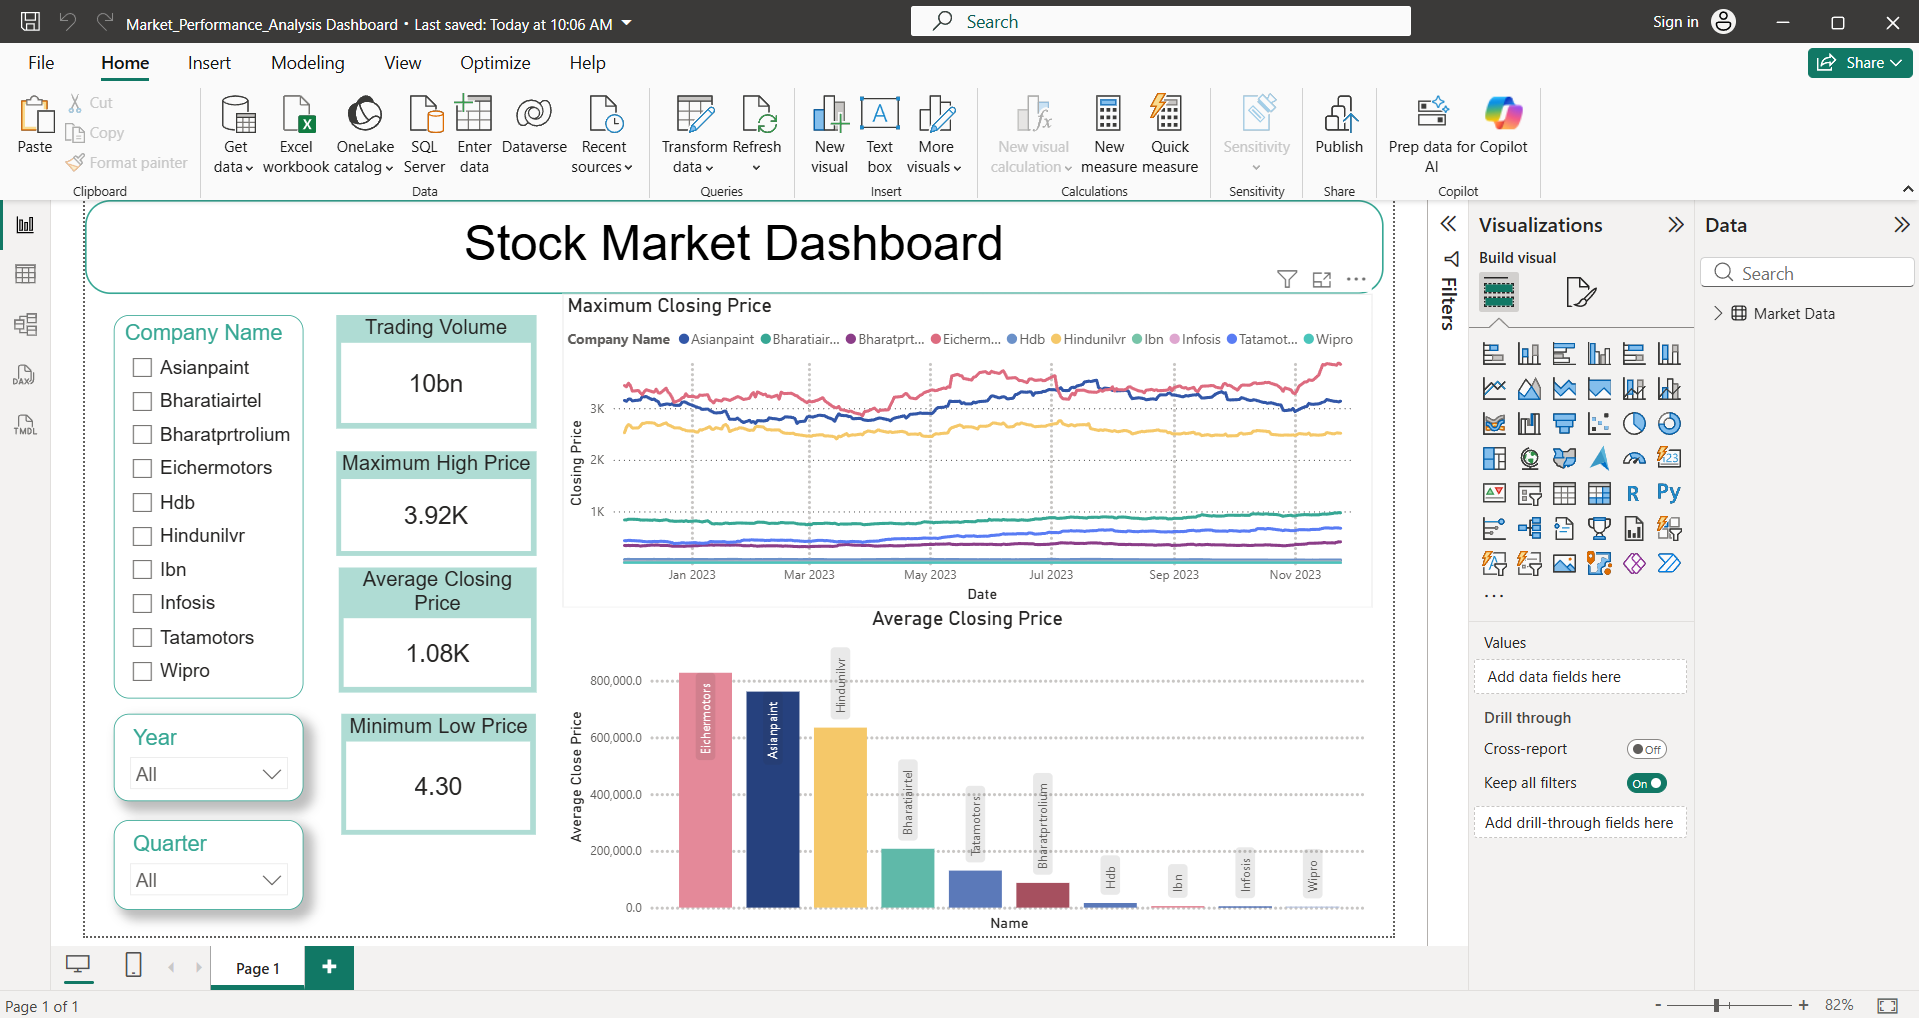

The dashboard page shown, as its layout file describes it:
{"tool":"powerbi","page":{"name":"Page 1","canvas":[1280,720],"ordinal":0},"visuals":[{"type":"textbox","box":[0,0,1270.5,91.7],"z":0},{"type":"cardVisual","title":"Trading Volume","fields":{"Data":["Sum(Market Data.Volume)"]},"box":[245.8,112.5,195.7,111.3],"z":1000},{"type":"cardVisual","title":"Average Closing Price","fields":{"Data":["Market Data.Average Close Price"]},"box":[248.2,359.5,193.2,122.3],"z":2000},{"type":"cardVisual","title":"Maximum High Price","fields":{"Data":["Max(Market Data.High)"]},"box":[245.8,245.8,195.7,102.7],"z":3000},{"type":"lineChart","title":"Maximum Closing Price","fields":{"Category":["Market Data.Date"],"Y":["Max(Market Data.Close)"],"Series":["Market Data.Name"]},"box":[467.1,91.7,792.4,306.9],"z":4000},{"type":"clusteredColumnChart","title":"Average Closing Price","fields":{"Category":["Market Data.Name"],"Y":["Sum(Market Data.Close)"]},"box":[467.1,398.6,792.4,321.6],"z":5000},{"type":"slicer","title":"Company Name","fields":{"Values":["Market Data.Name"]},"box":[28.1,112.5,185.9,375.4],"z":6000},{"type":"cardVisual","title":"Minimum Low Price","fields":{"Data":["Min(Market Data.Low)"]},"box":[250.7,502.6,190.8,118.6],"z":7000},{"type":"slicer","fields":{"Values":["Market Data.Year"]},"box":[28.1,502.6,185.9,85.6],"z":8000},{"type":"slicer","fields":{"Values":["Market Data.Quarter"]},"box":[28.1,606.5,185.9,88],"z":9000}]}

Visuals, with their boxes on the page's 1280x720 design canvas (x1, y1, x2, y2). These are canvas units, not pixel positions in the 1919x1018 screenshot, which may show the page scaled, cropped or inside an application window:
textbox: 0/0/1270/92
"Trading Volume" cardVisual: 246/112/442/224
"Average Closing Price" cardVisual: 248/360/441/482
"Maximum High Price" cardVisual: 246/246/442/348
"Maximum Closing Price" lineChart: 467/92/1260/399
"Average Closing Price" clusteredColumnChart: 467/399/1260/720
"Company Name" slicer: 28/112/214/488
"Minimum Low Price" cardVisual: 251/503/442/621
slicer - Market Data.Year: 28/503/214/588
slicer - Market Data.Quarter: 28/606/214/694
